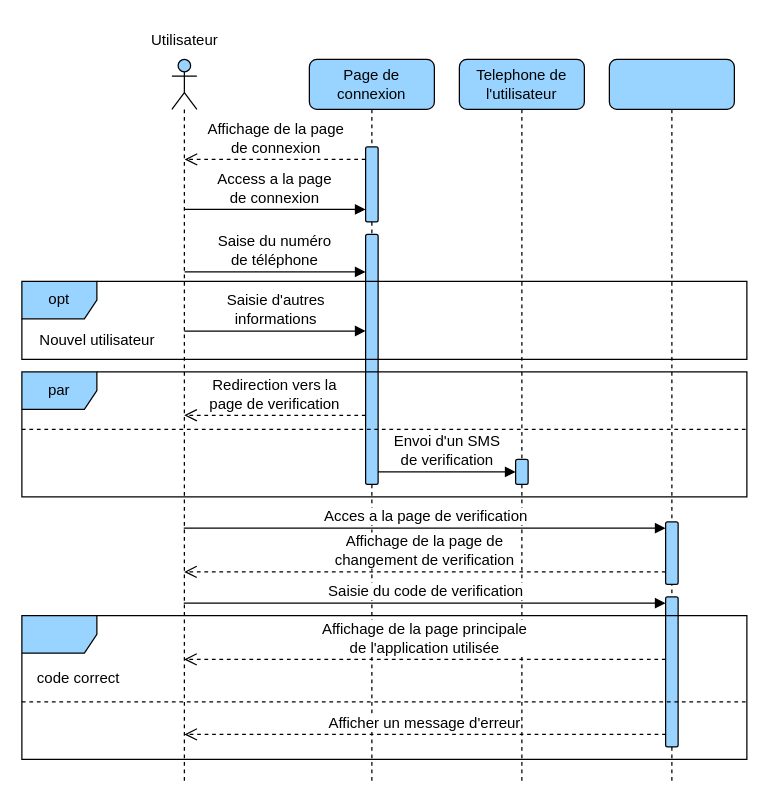
Image size: 769x806. Some labels were removed from this diagram. Each missing label, with the box of its shape:
alt: (21, 614, 747, 759)
Page de verification: (608, 58, 734, 784)
